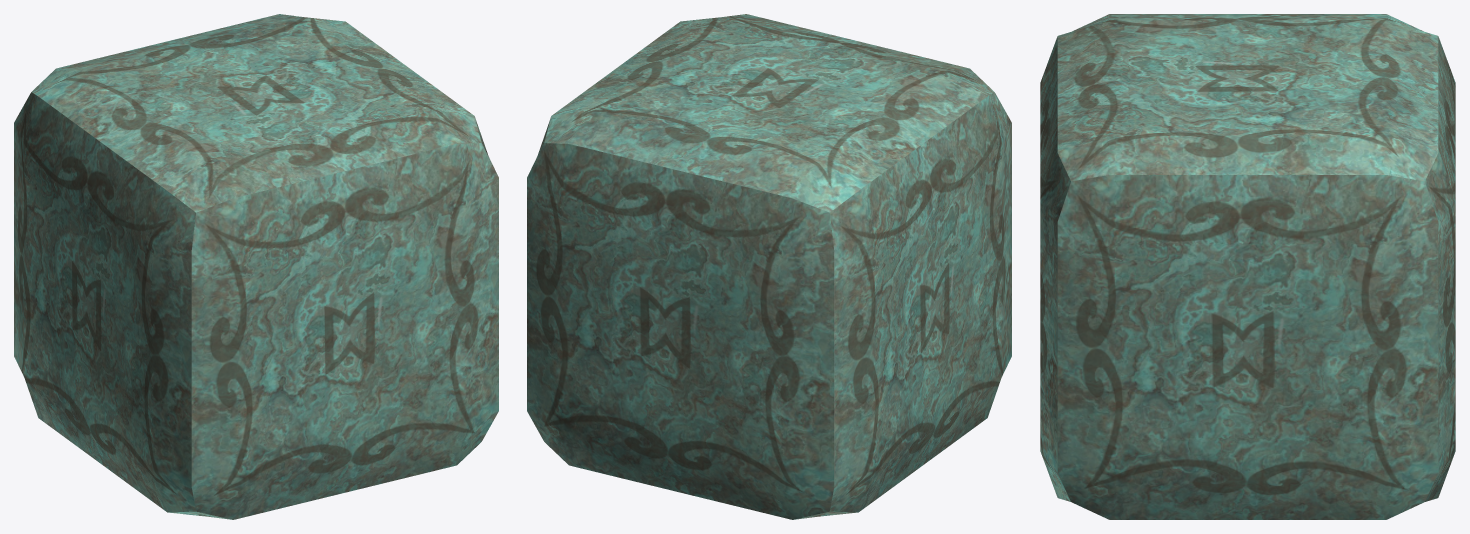
The model's file is TeleportStone.FBX.
3 renders of one model, left to right at view 1: azimuth 30°, elevation 25°; view 2: azimuth 150°, elevation 25°; view 3: azimuth 270°, elevation 25°, orthographic. The views are drawn at different scales.
Visible parts, largest first — view 1: Artefact; view 2: Artefact; view 3: Artefact.
Boxes of the visible parts, box(x1,y1,x2,y2) form: Artefact: box(14, 14, 498, 519); Artefact: box(527, 14, 1011, 519); Artefact: box(1040, 14, 1455, 519).
Size of the model in its own units: 10 by 10 by 10.
